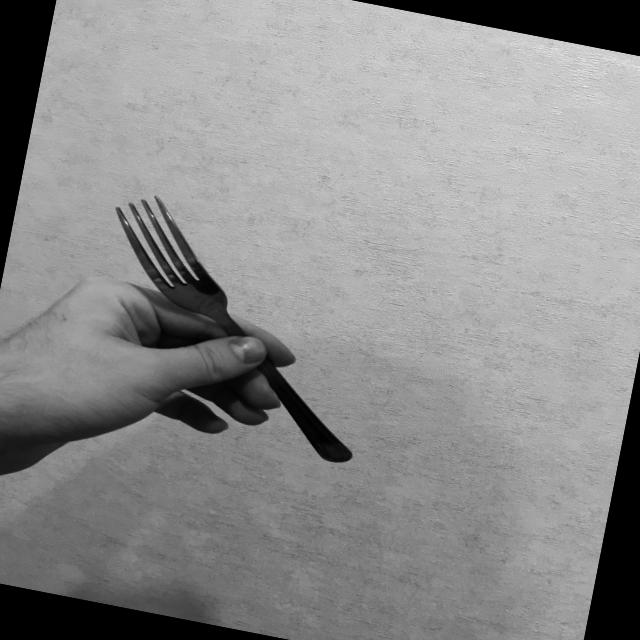fork: (75, 187, 392, 466)
